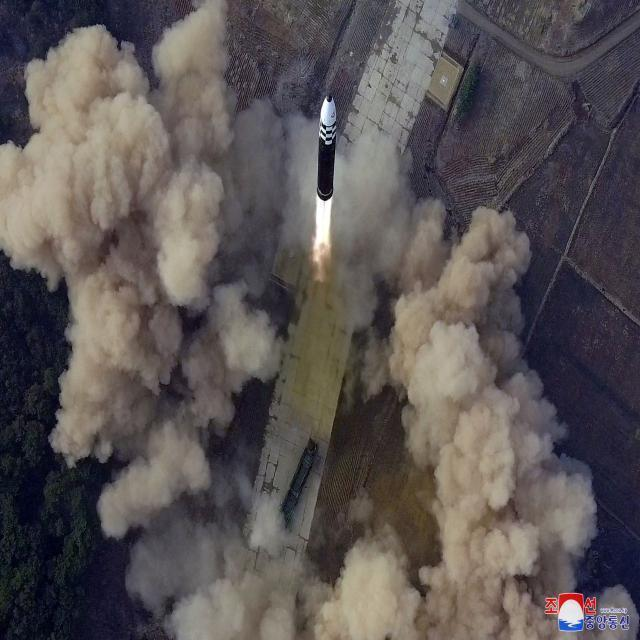Missile: (315, 87, 340, 209)
